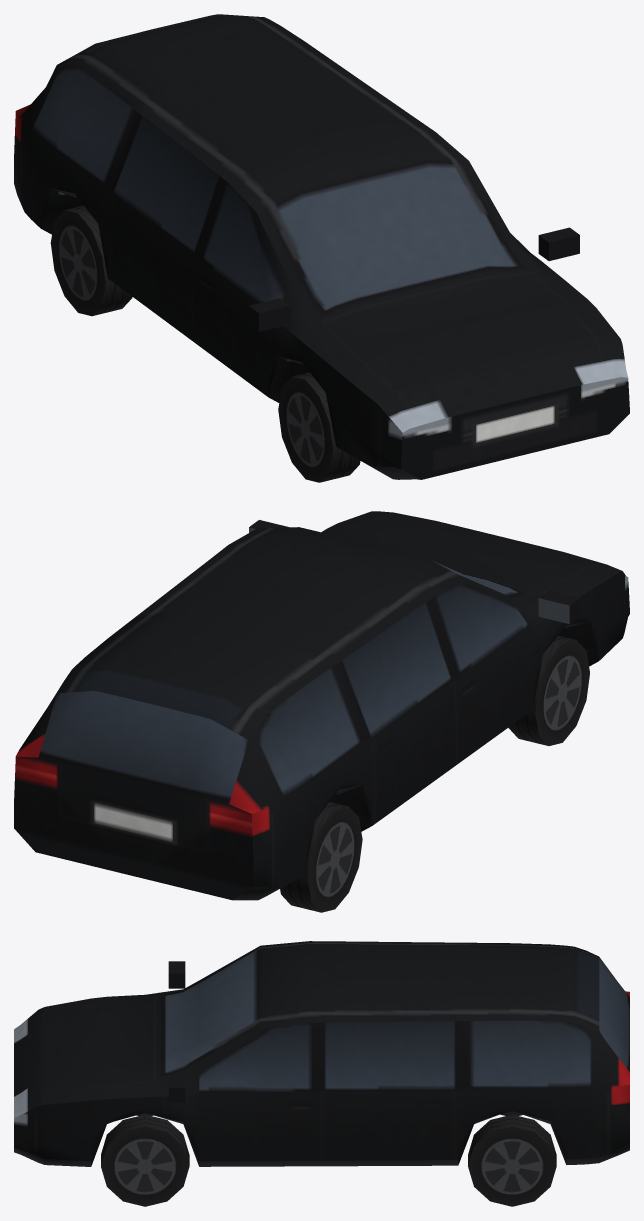
Rendered from SM_Morin_Auto_C_Col_v2_Nero_LOD1.fbx.
3 renders of one model, top to bottom at view 1: azimuth 30°, elevation 25°; view 2: azimuth 150°, elevation 25°; view 3: azimuth 270°, elevation 25°, orthographic. The views are drawn at different scales.
Parts seen in each view (by area): view 1: SM_Morin_Auto_C_Col_v2_Nero_LOD1; view 2: SM_Morin_Auto_C_Col_v2_Nero_LOD1; view 3: SM_Morin_Auto_C_Col_v2_Nero_LOD1.
Part boxes in pixels (left/top/right/bottom): SM_Morin_Auto_C_Col_v2_Nero_LOD1: left=14, top=14, right=629, bottom=482; SM_Morin_Auto_C_Col_v2_Nero_LOD1: left=14, top=511, right=629, bottom=912; SM_Morin_Auto_C_Col_v2_Nero_LOD1: left=14, top=941, right=629, bottom=1206.
Size of the model in its own units: 216 by 445 by 147.
Materials: 1 (1 with a texture image).
